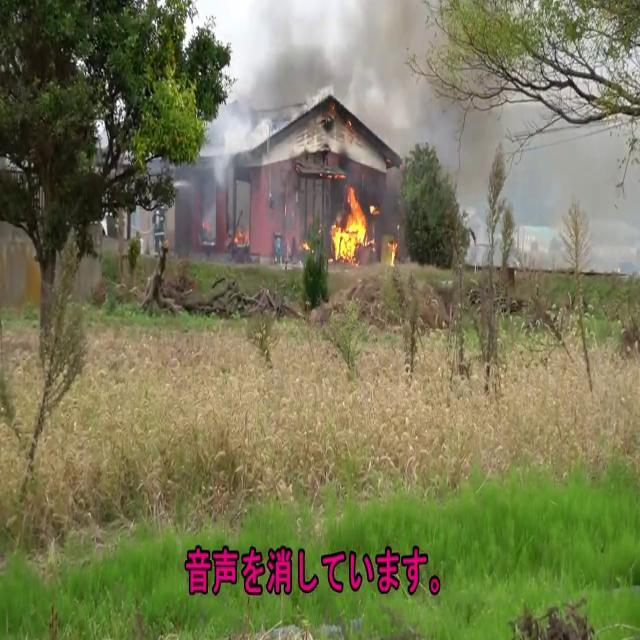Fire: (328, 181, 378, 263)
Smoke: (216, 0, 432, 144), (193, 13, 293, 248)
